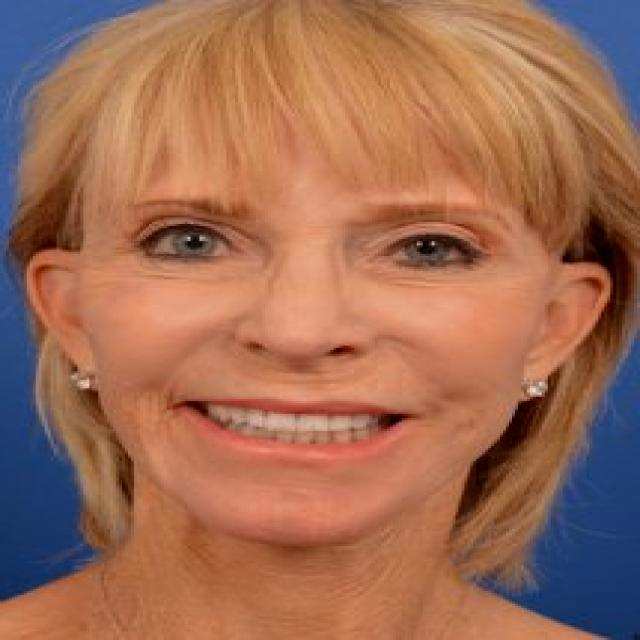normal_face: (76, 62, 570, 532)
